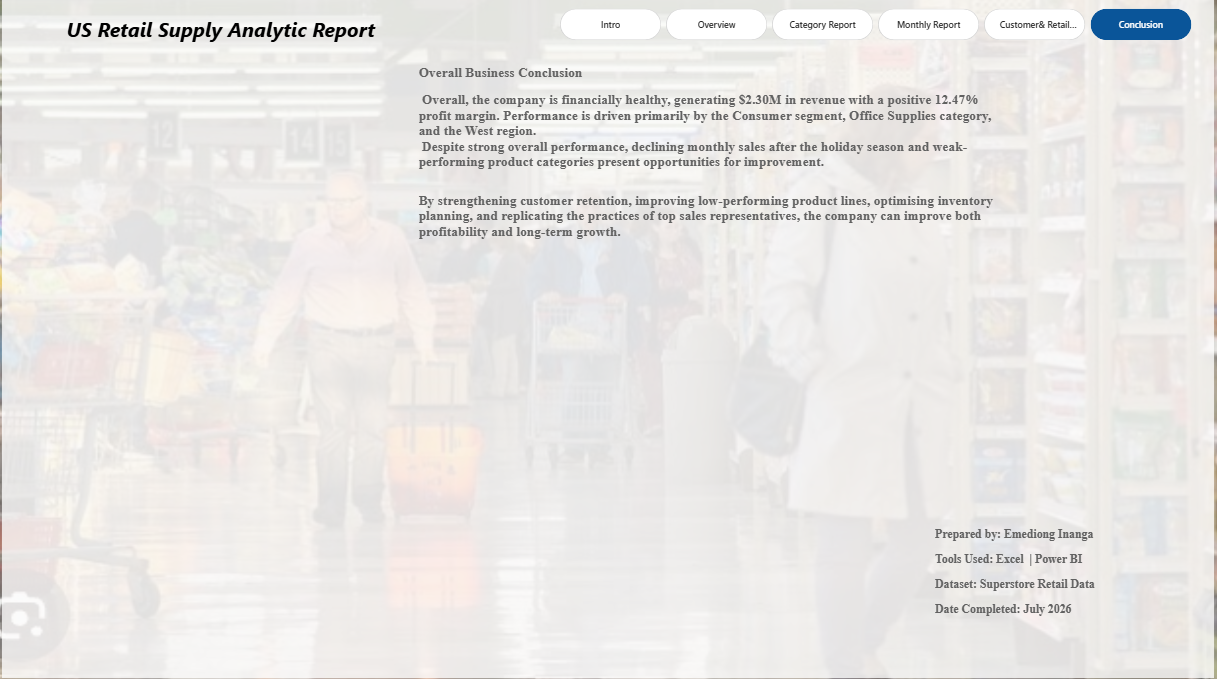

The page's visual inventory and layout, read from the dashboard file:
{"tool":"powerbi","page":{"name":"Conclusion","canvas":[1920,1080],"ordinal":5},"visuals":[{"type":"textbox","box":[660,110,914,494],"z":0},{"type":"textbox","box":[102,30,590,80],"z":1000},{"type":"pageNavigator","box":[884,20,1000,50],"z":2000},{"type":"textbox","box":[1478,824,406,216],"z":2001}]}

Visuals, with their boxes in screenshot pixels (x1, y1, x2, y2), scaled from the page's 1920x1080 canvas onto the 1217x679 screenshot:
textbox: bbox=(418, 69, 998, 380)
textbox: bbox=(65, 19, 439, 69)
pageNavigator: bbox=(560, 13, 1194, 44)
textbox: bbox=(937, 518, 1194, 654)
